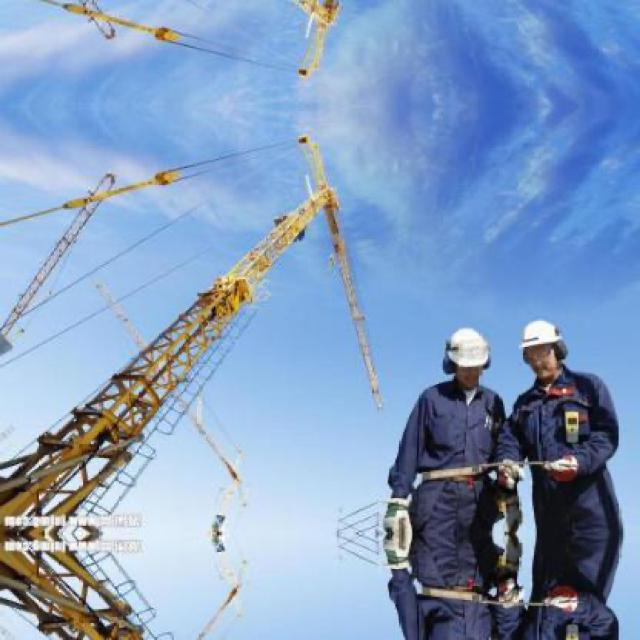con casco: (518, 284, 597, 409), (415, 324, 495, 416)
